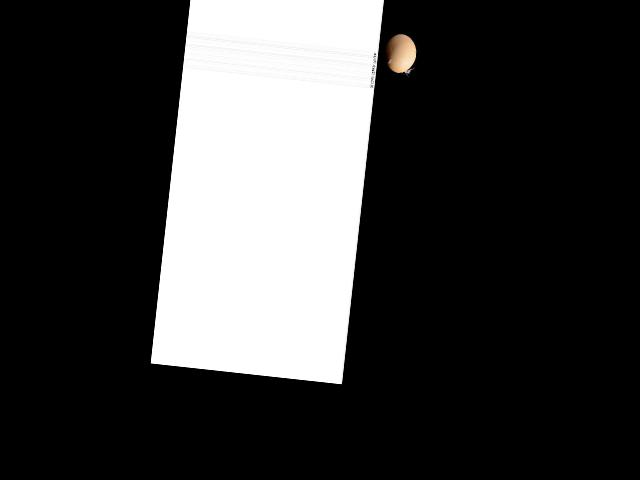egg: (382, 32, 417, 74)
